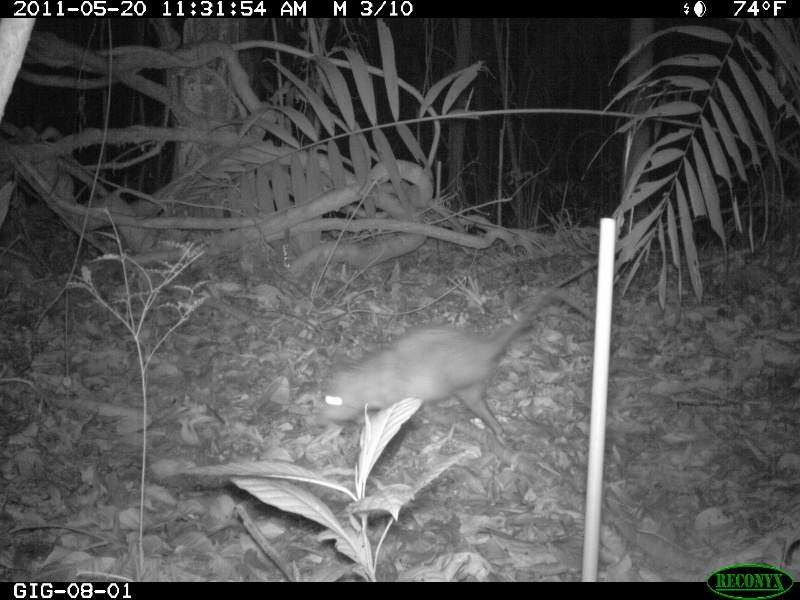opossum: (309, 283, 599, 444)
